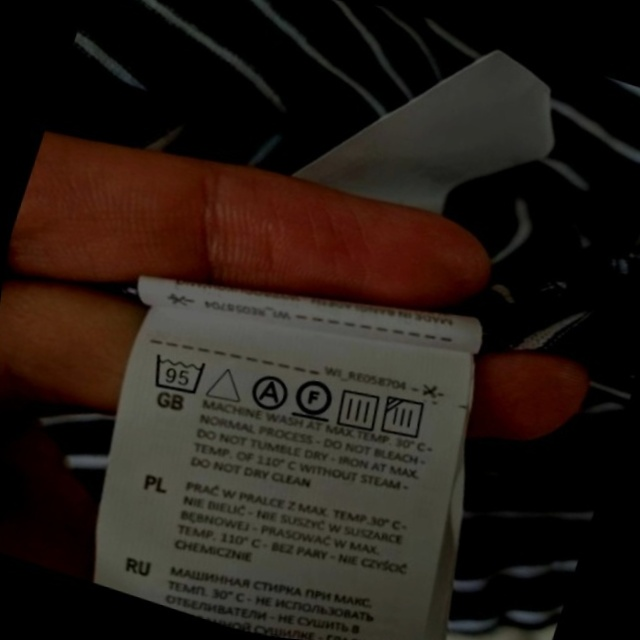95C: (141, 340, 218, 408)
bleach: (198, 353, 254, 413)
drip_dry: (326, 377, 392, 441)
drip_dry_in_shade: (371, 384, 439, 452)
dry_clean: (240, 364, 298, 420)
dry_clean_petrol_only: (283, 365, 346, 432)
